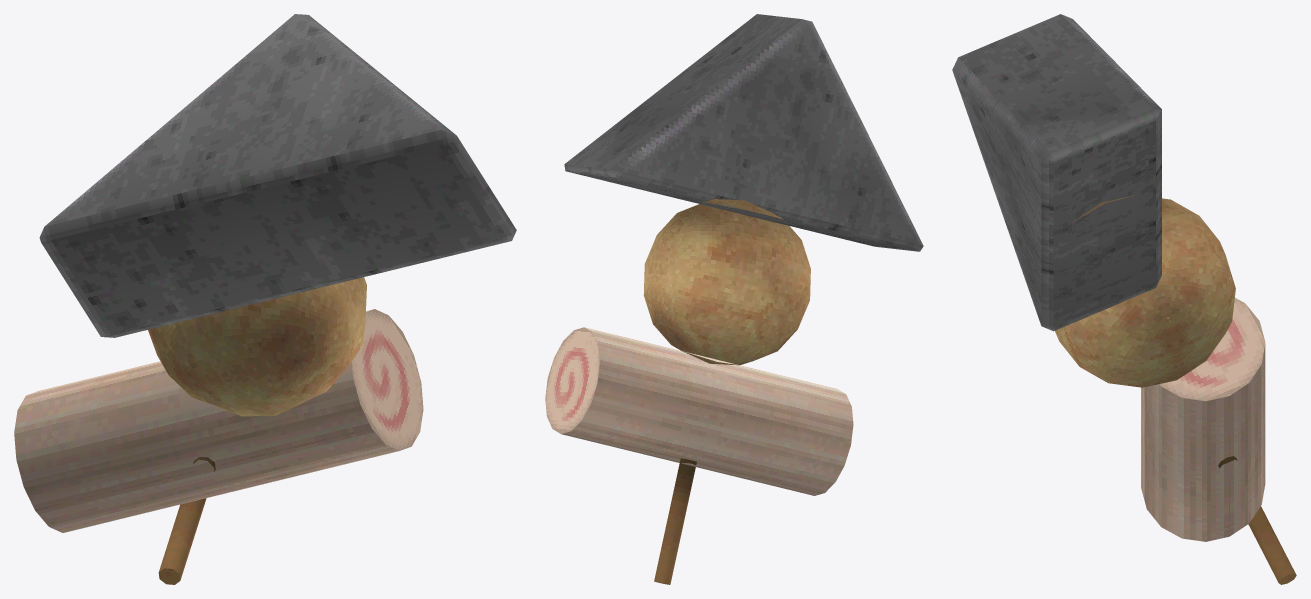
The model's file is ps2_save-icons_hissatsupachislotevo2.glb.
The picture shows the model from 3 angles, left to right: view 1: azimuth 30°, elevation 25°; view 2: azimuth 150°, elevation 25°; view 3: azimuth 270°, elevation 25°; orthographic projection. The views are drawn at different scales.
Visible parts, largest first — view 1: micon.ico; view 2: micon.ico; view 3: micon.ico.
Boxes of the visible parts, <box> form: micon.ico: <box>14,14,516,584</box>; micon.ico: <box>545,14,923,584</box>; micon.ico: <box>952,14,1296,584</box>.
Bounding box in the file's own units: 3.1 × 4.69 × 2.59.
1 material, 1 textured.
